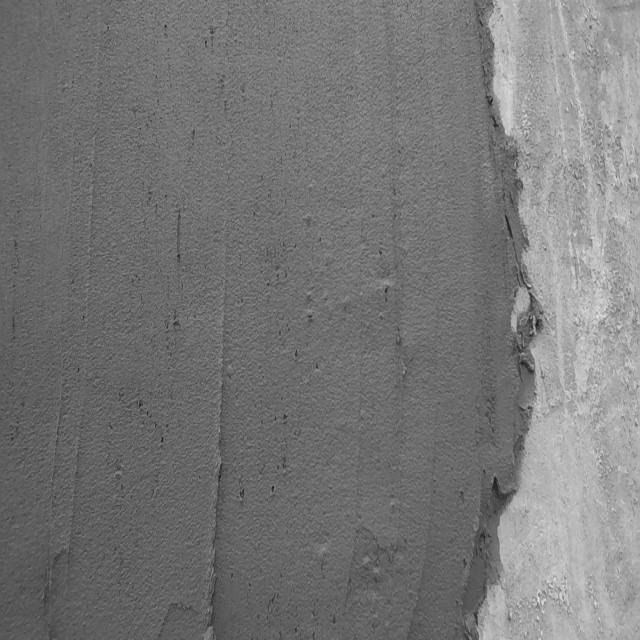trowels marks: (66, 13, 106, 600), (208, 268, 228, 640)
